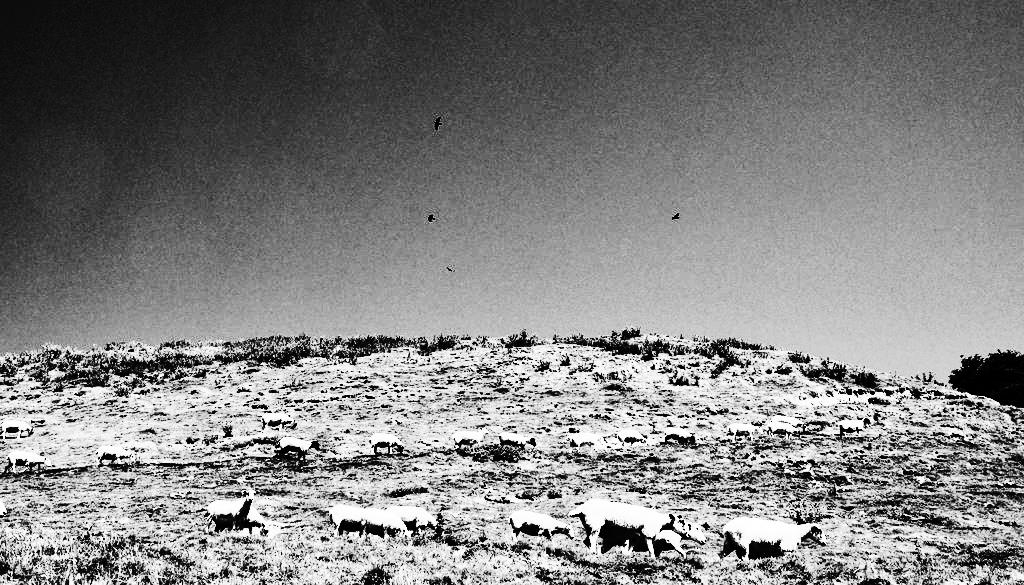Sheep: (558, 492, 688, 560), (714, 512, 830, 570), (610, 516, 708, 562), (503, 509, 578, 550), (198, 484, 260, 529), (348, 503, 416, 542), (382, 502, 446, 536), (0, 446, 59, 479), (360, 426, 412, 462), (85, 438, 143, 470), (270, 438, 324, 466), (321, 502, 366, 532), (492, 428, 540, 454), (566, 424, 606, 454), (712, 418, 756, 444), (246, 503, 276, 540), (832, 416, 872, 442), (446, 426, 488, 450), (760, 418, 798, 444), (658, 424, 702, 445), (614, 424, 648, 451), (0, 416, 35, 439), (257, 412, 295, 432), (768, 413, 806, 429)
